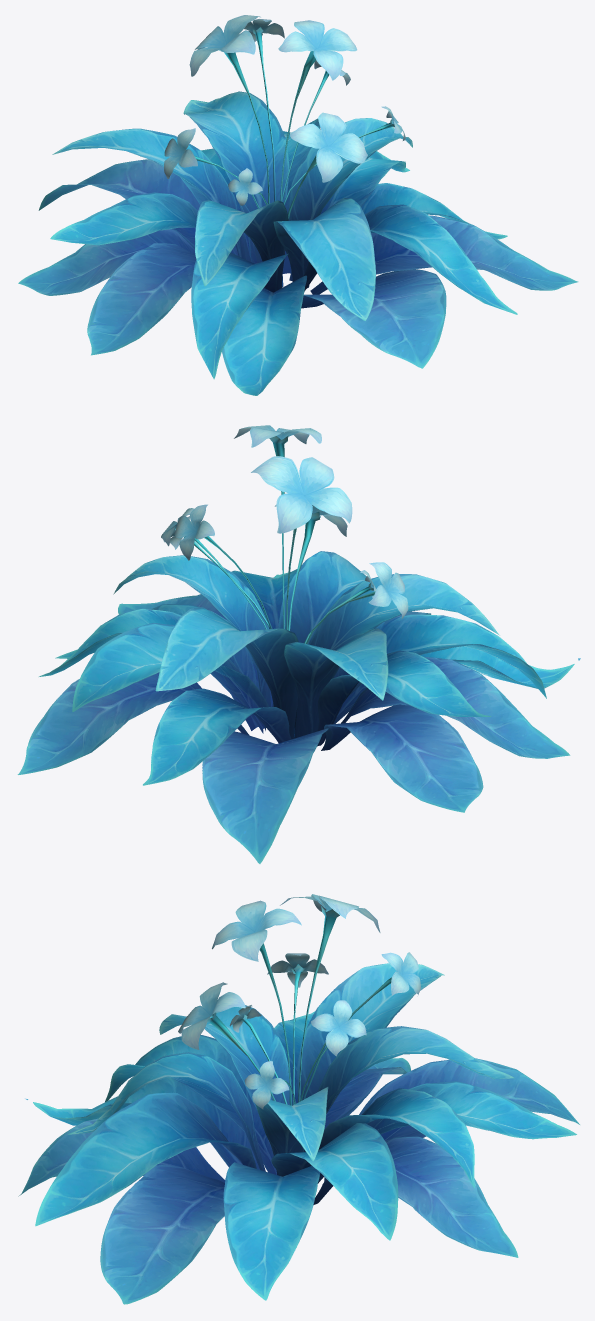
File: Homeworld_Exterior_Xm_Plant_Grass_QqstyleBig_01_Lod0.fbx
3 renders of one model, top to bottom at view 1: azimuth 30°, elevation 25°; view 2: azimuth 150°, elevation 25°; view 3: azimuth 270°, elevation 25°, orthographic. The views are drawn at different scales.
Parts seen in each view (by area): view 1: Homeworld_Exterior_Xm_Plant_Grass_QqstyleBig_01_Lod0; view 2: Homeworld_Exterior_Xm_Plant_Grass_QqstyleBig_01_Lod0; view 3: Homeworld_Exterior_Xm_Plant_Grass_QqstyleBig_01_Lod0.
Boxes of the visible parts, <box> form: Homeworld_Exterior_Xm_Plant_Grass_QqstyleBig_01_Lod0: <box>18,15,578,395</box>; Homeworld_Exterior_Xm_Plant_Grass_QqstyleBig_01_Lod0: <box>17,425,580,863</box>; Homeworld_Exterior_Xm_Plant_Grass_QqstyleBig_01_Lod0: <box>18,894,579,1304</box>.
Bounding box in the file's own units: 2.57 × 1.44 × 2.54.
Materials: 1 (1 with a texture image).
